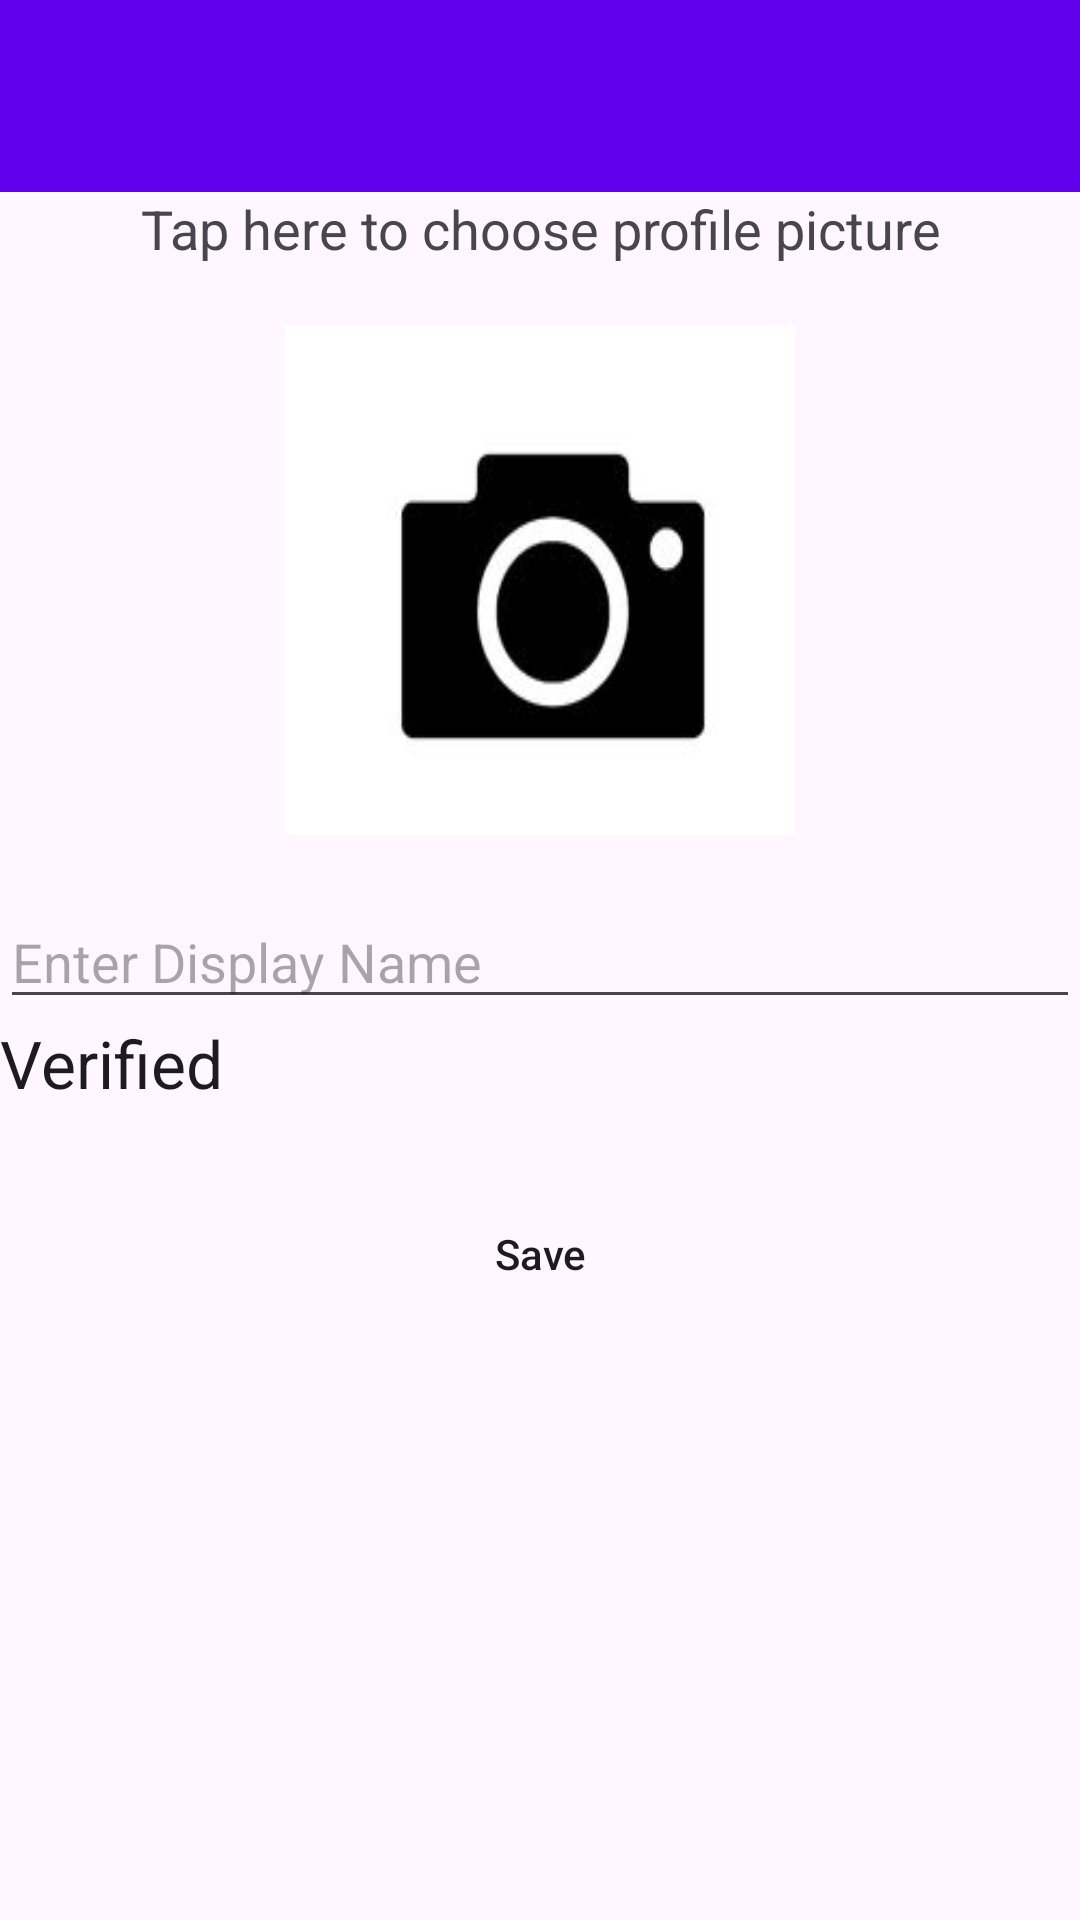

Point at icon controls on the screen. Image size 1080×1920, points as [x,y].
camera: [553,596]
